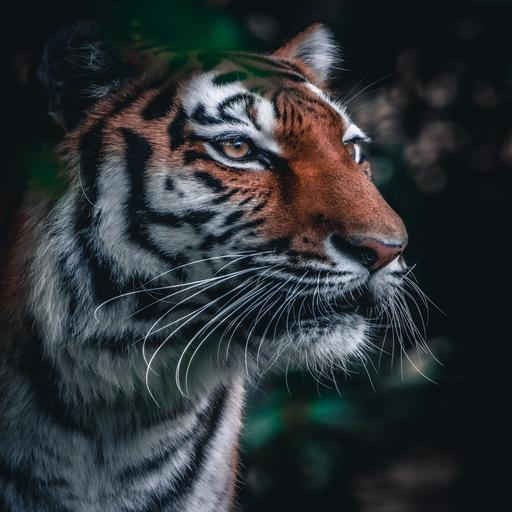Tiger: (0, 21, 443, 512)
